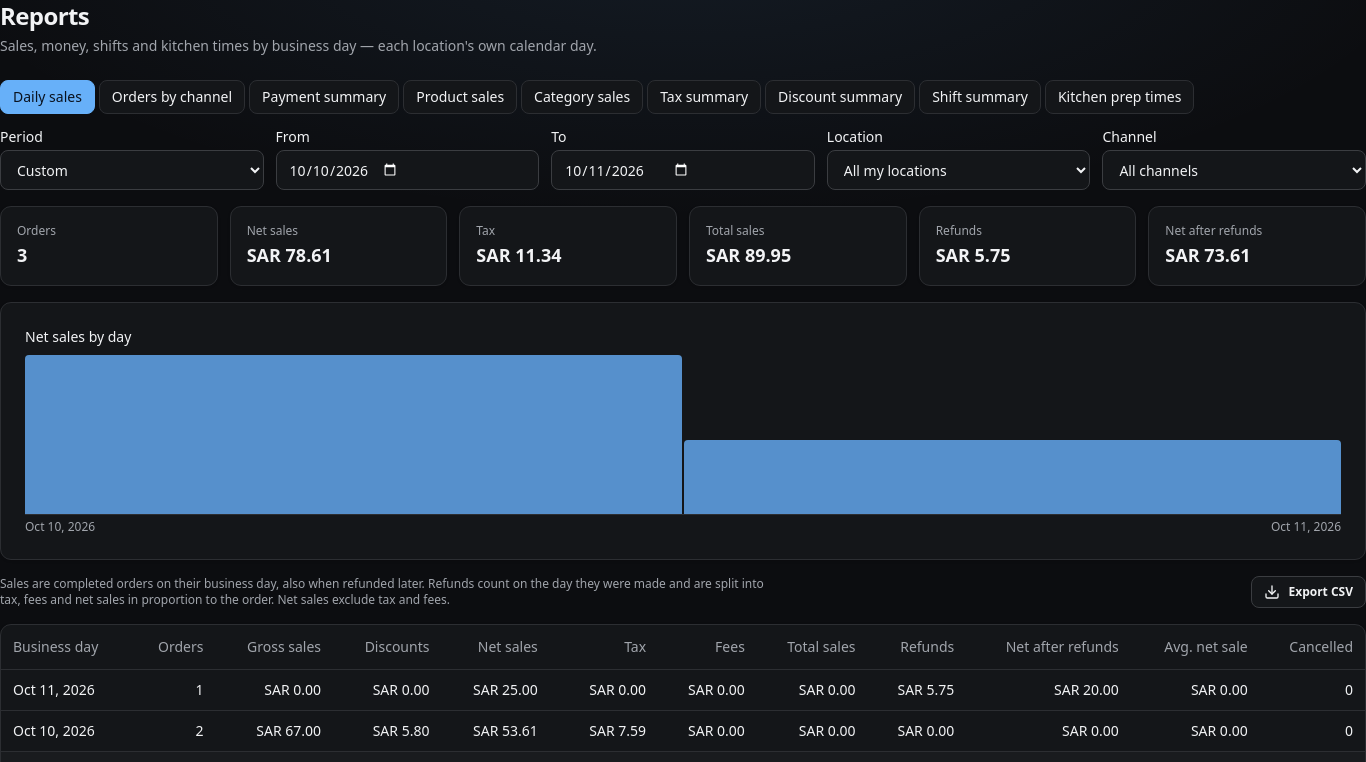
Test: reports page › asks the API again when a filter changes
Select "Website" in the dropdown labelled "Channel": (1234, 170) x1=1102 y1=150 x2=1365 y2=190
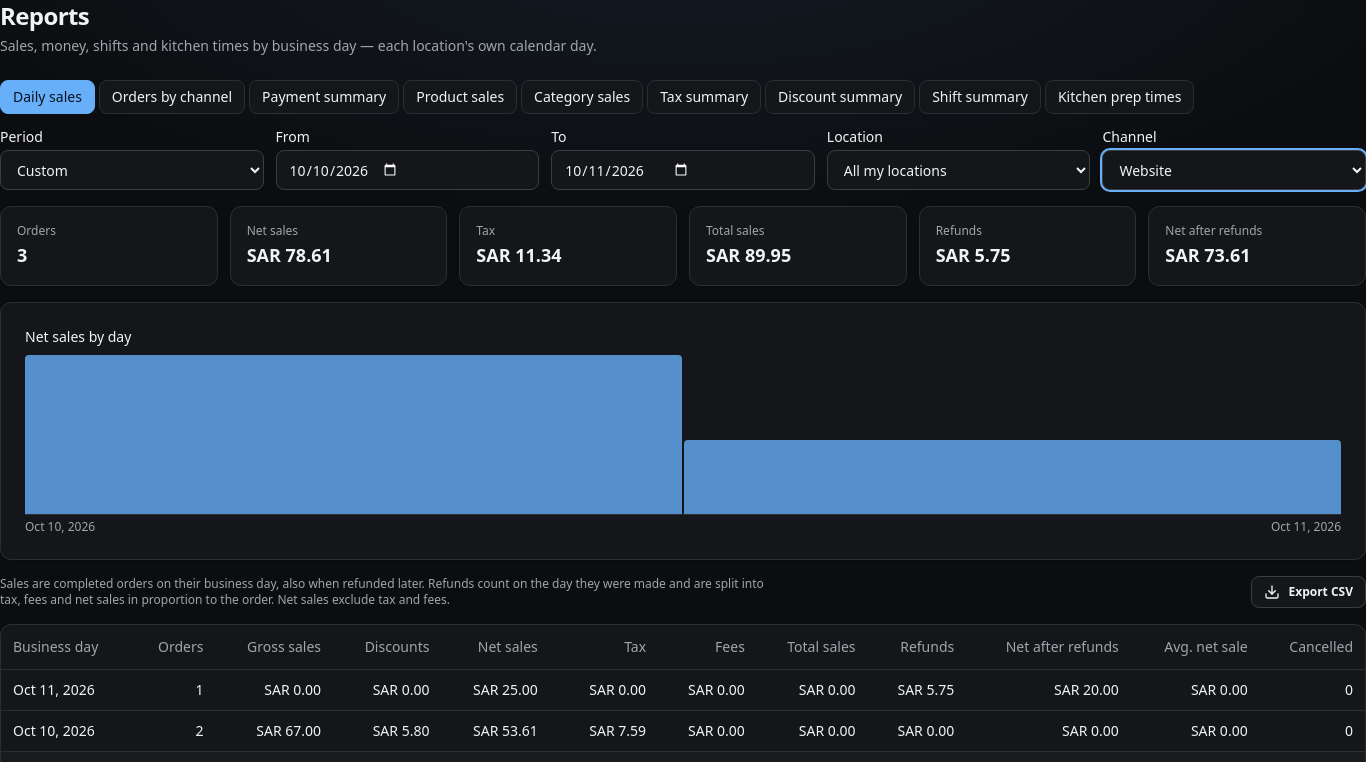
Select "Main Branch" in the dropdown labelled "Location": (959, 170) x1=827 y1=150 x2=1090 y2=190
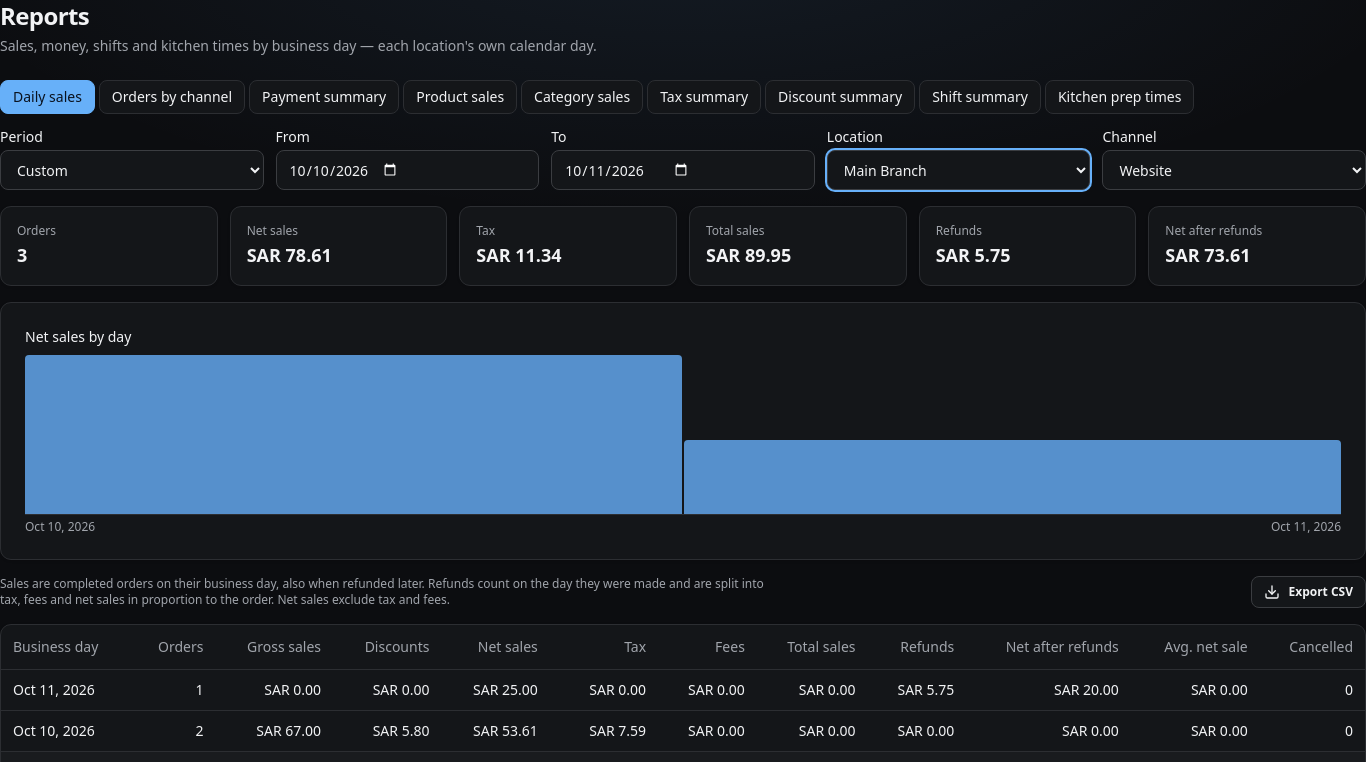
Click the link "Orders by channel": (172, 97) x1=99 y1=80 x2=245 y2=114
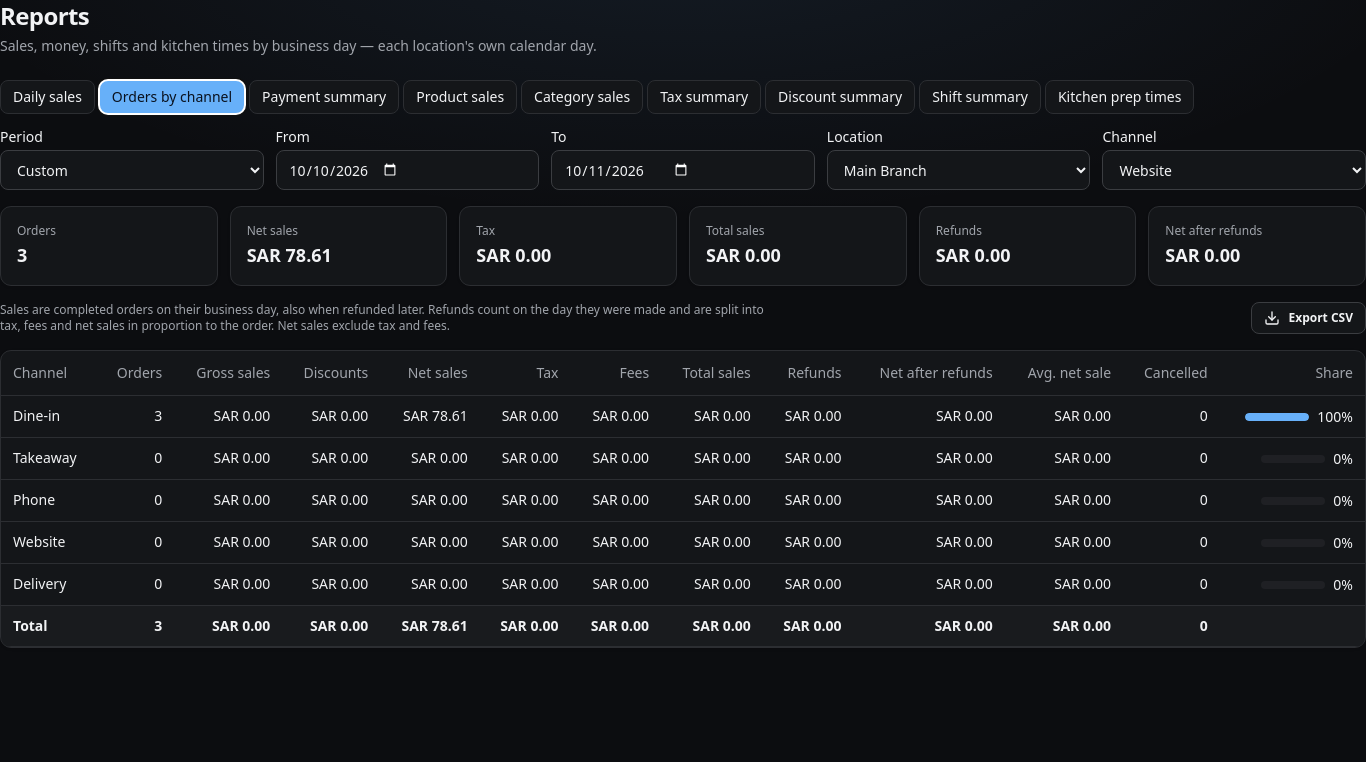
Expected: the row "Dine-in" shows "100%", x1=1317 y1=406 x2=1353 y2=426
